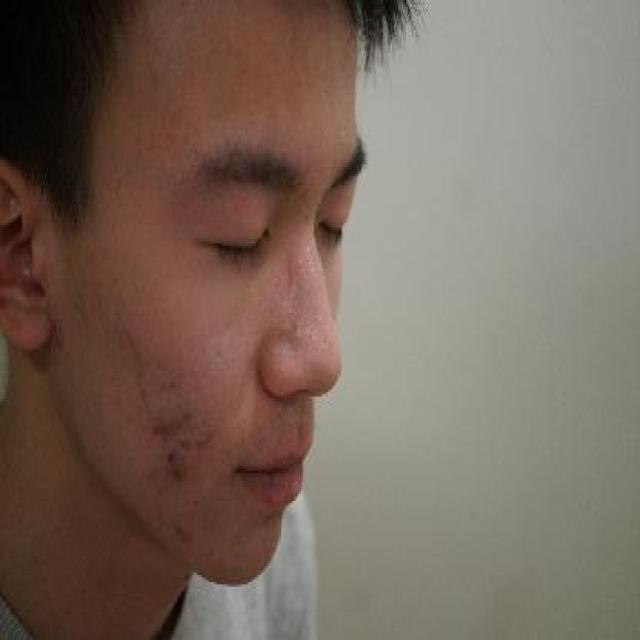dark spot: (172, 512, 195, 550)
nodules: (159, 422, 206, 496)
